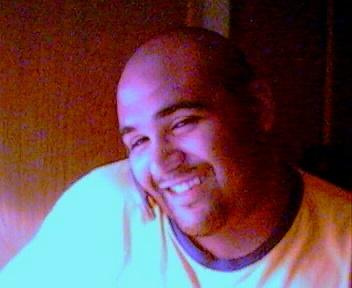person: (1, 27, 352, 288)
